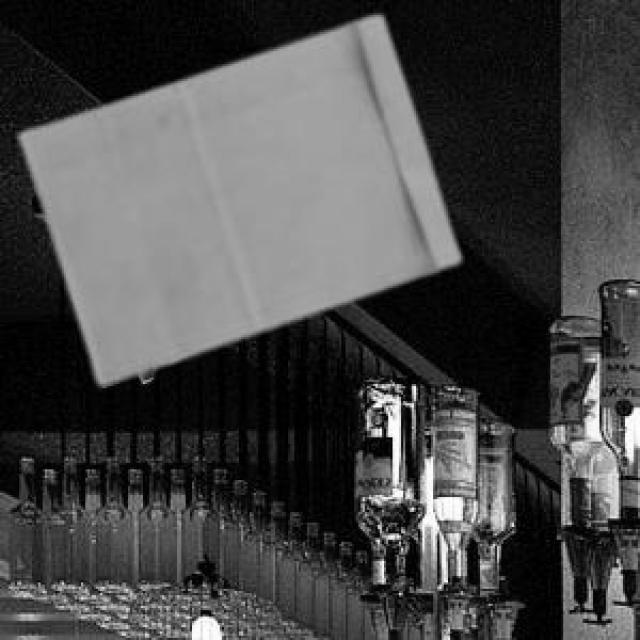miscellaneous trash: (134, 363, 150, 380)
paper: (17, 13, 454, 380)
